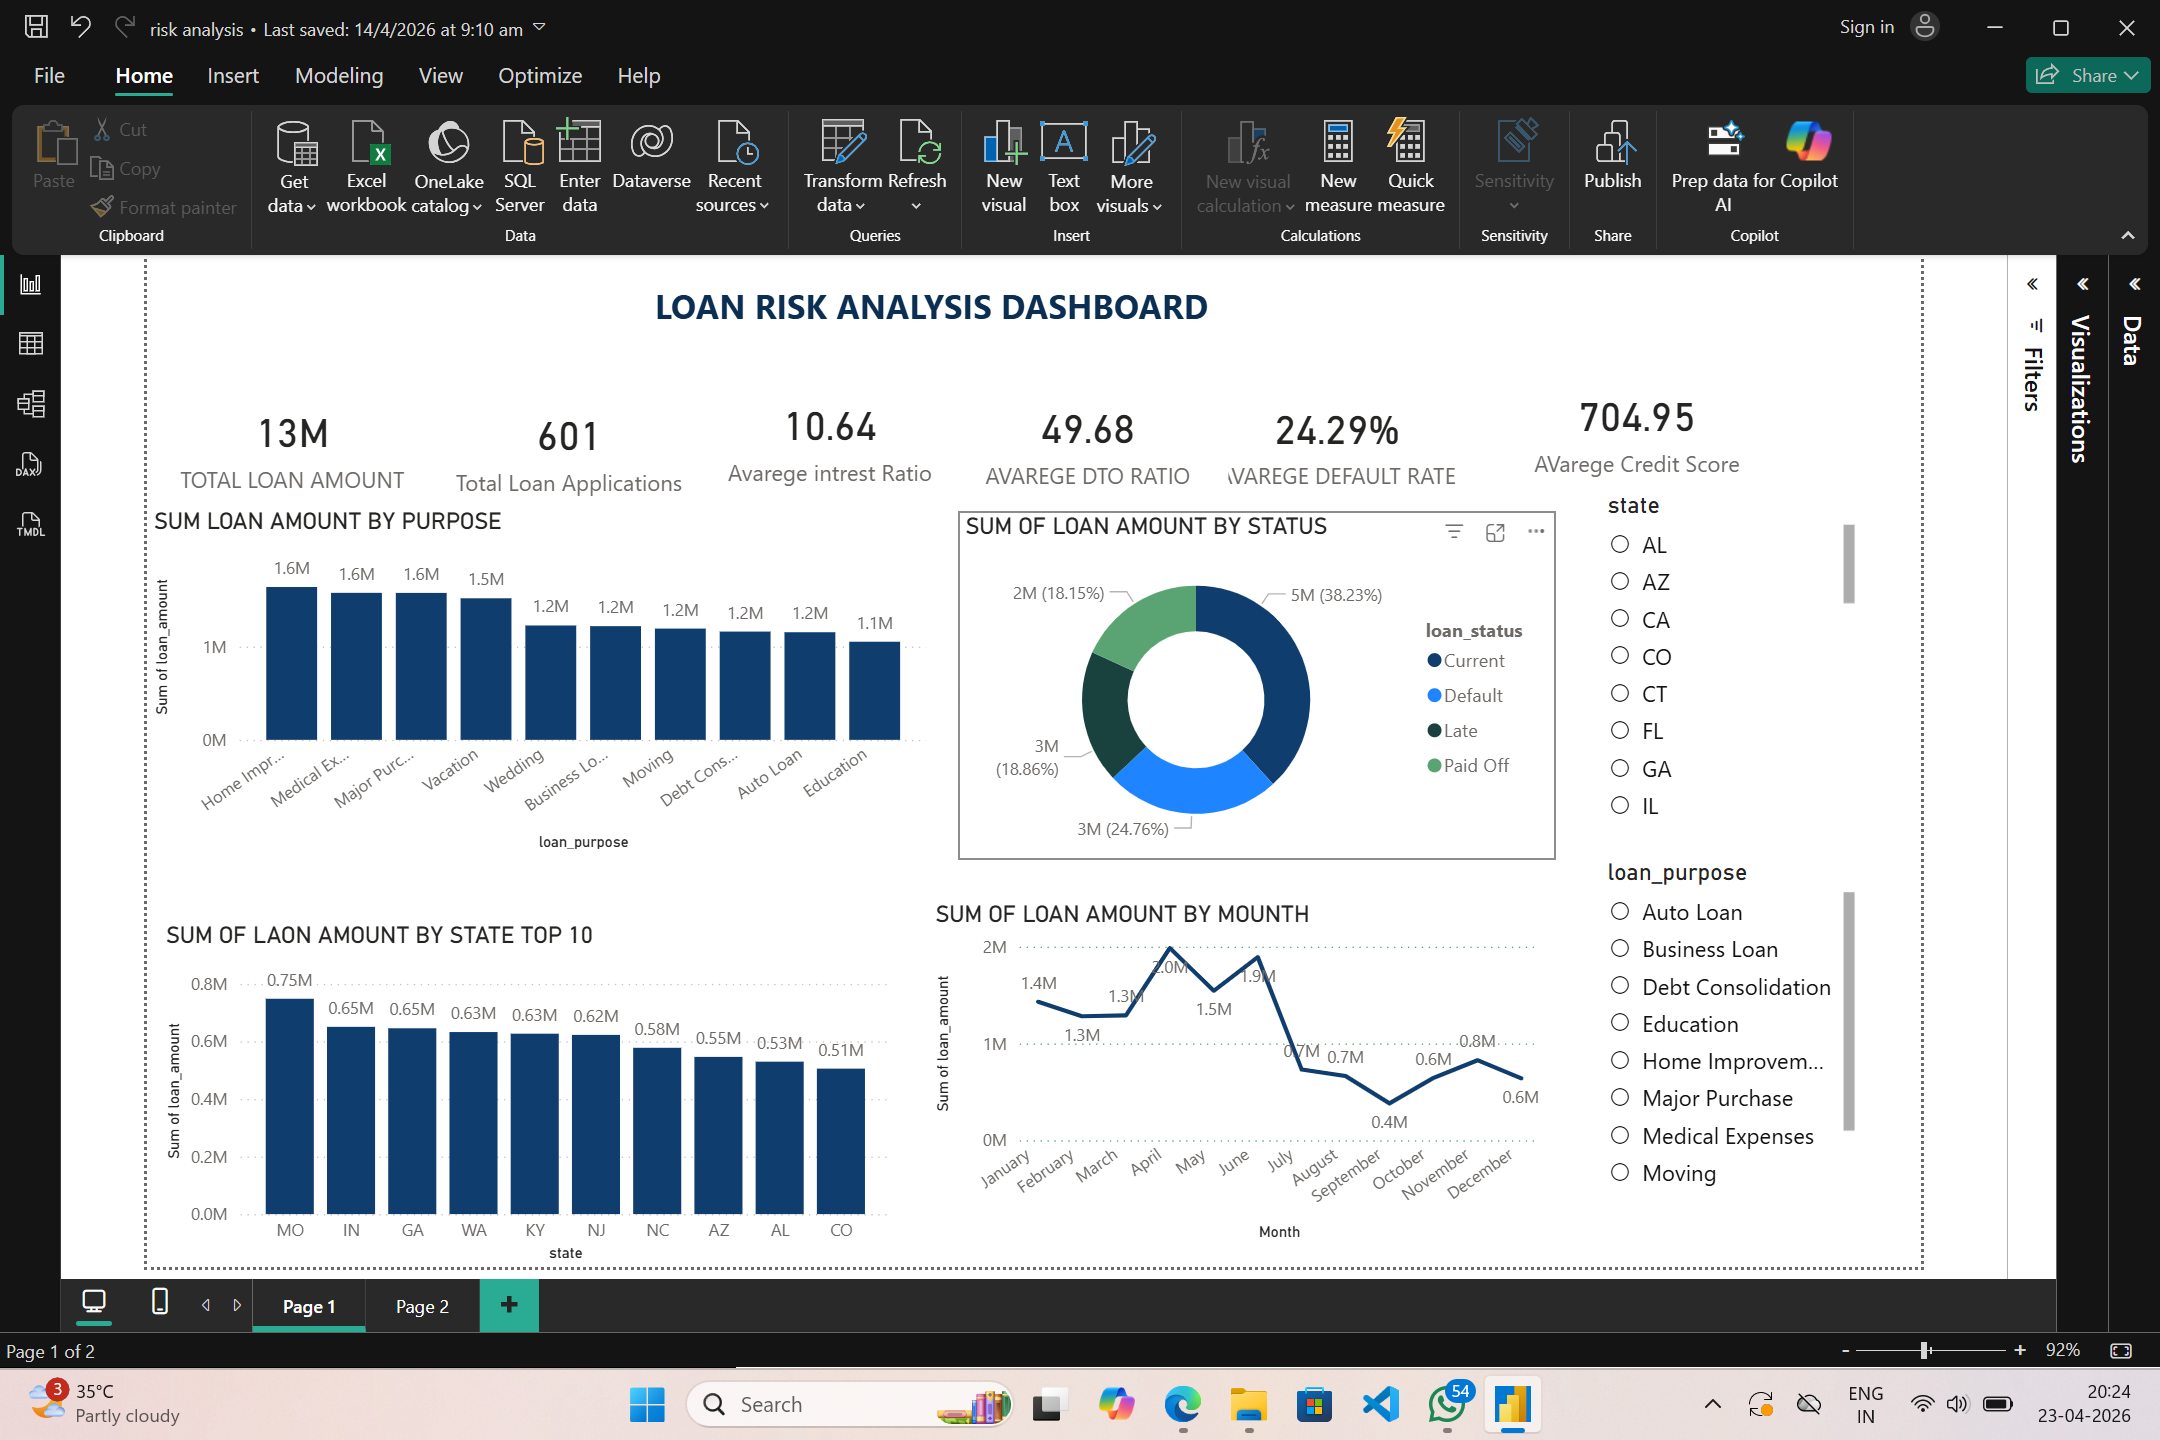

Layout of this report page (visuals, bound fields, positions):
{"tool":"powerbi","page":{"name":"Page 1","canvas":[1280,730],"ordinal":0},"visuals":[{"type":"card","fields":{"Values":["loan_files.TOTAL LOAN AMOUNT"]},"box":[10.1,93.4,189.7,87.7],"z":0},{"type":"card","fields":{"Values":["loan_files.Total Loan Applications"]},"box":[209.8,93.4,188.3,92],"z":1000},{"type":"card","fields":{"Values":["loan_files.Avarege intrest Ratio"]},"box":[398.1,81.9,188.3,99.2],"z":2000},{"type":"card","fields":{"Values":["barrow_files.AVarege Credit Score"]},"box":[980.4,80.2,188.4,90.4],"z":3000},{"type":"card","fields":{"Values":["loan_files.AVAREGE DEFAULT RATE"]},"box":[735.9,88.5,244.8,91.3],"z":4000},{"type":"card","fields":{"Values":["loan_files.DTI RATIO"]},"box":[576.8,94.1,203.3,80.2],"z":5000},{"type":"columnChart","title":"SUM LOAN AMOUNT BY PURPOSE","fields":{"Category":["loan_files.loan_purpose"],"Y":["Sum(loan_files.loan_amount)"]},"box":[0,181.5,567.3,251.6],"z":6000},{"type":"donutChart","title":"SUM OF LOAN AMOUNT BY STATUS","fields":{"Category":["loan_files.loan_status"],"Y":["Sum(loan_files.loan_amount)"]},"box":[576.7,179.6,430.6,251],"z":7000},{"type":"lineChart","title":"SUM OF LOAN AMOUNT BY MOUNTH","fields":{"Category":["loan_files.application_date.Variation.Date Hierarchy.Month"],"Y":["Sum(loan_files.loan_amount)"]},"box":[563.3,465,445,250],"z":8000},{"type":"listSlicer","fields":{"Values":["barrow_files.state"]},"box":[1048.5,170.1,188.1,249],"z":9000},{"type":"clusteredColumnChart","title":"SUM OF LAON  AMOUNT BY STATE TOP 10","fields":{"Y":["Sum(loan_files.loan_amount)"],"Category":["barrow_files.state"]},"box":[9.2,480.4,532.2,250.1],"z":10000},{"type":"listSlicer","fields":{"Values":["loan_files.loan_purpose"]},"box":[1048.3,435,188.3,250],"z":11000},{"type":"textbox","box":[361.6,15.3,431.6,73.8],"z":12000}]}

Visuals, with their boxes on the page's 1280x730 design canvas (x1, y1, x2, y2). These are canvas units, not pixel positions in the 2160x1440 screenshot, which may show the page scaled, cropped or inside an application window:
card - loan_files.TOTAL LOAN AMOUNT: rect(10, 93, 200, 181)
card - loan_files.Total Loan Applications: rect(210, 93, 398, 185)
card - loan_files.Avarege intrest Ratio: rect(398, 82, 586, 181)
card - barrow_files.AVarege Credit Score: rect(980, 80, 1169, 171)
card - loan_files.AVAREGE DEFAULT RATE: rect(736, 88, 981, 180)
card - loan_files.DTI RATIO: rect(577, 94, 780, 174)
"SUM LOAN AMOUNT BY PURPOSE" columnChart: rect(0, 182, 567, 433)
"SUM OF LOAN AMOUNT BY STATUS" donutChart: rect(577, 180, 1007, 431)
"SUM OF LOAN AMOUNT BY MOUNTH" lineChart: rect(563, 465, 1008, 715)
listSlicer - barrow_files.state: rect(1048, 170, 1237, 419)
"SUM OF LAON  AMOUNT BY STATE TOP 10" clusteredColumnChart: rect(9, 480, 541, 730)
listSlicer - loan_files.loan_purpose: rect(1048, 435, 1237, 685)
textbox: rect(362, 15, 793, 89)
